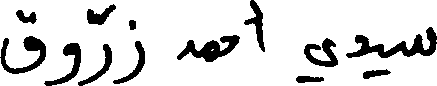أ: (244, 0, 264, 52)
ح: (219, 33, 237, 58)
د: (346, 33, 367, 80), (176, 37, 193, 60)
ر: (78, 2, 116, 84)
ز: (115, 4, 145, 84)
س: (400, 24, 435, 57)
ق: (0, 8, 45, 85)
م: (203, 34, 221, 61)
و: (44, 40, 80, 84)
ي: (294, 35, 336, 83), (366, 35, 390, 80)
